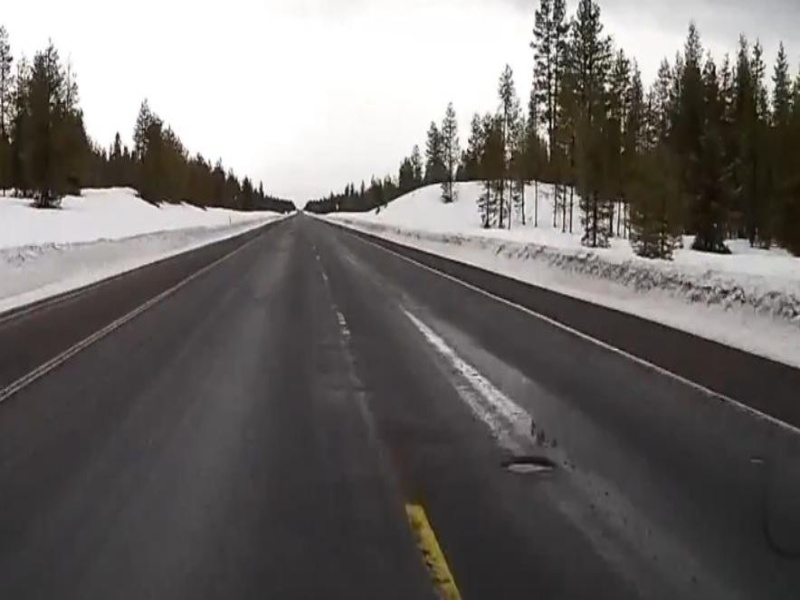pothole: (499, 450, 560, 477)
